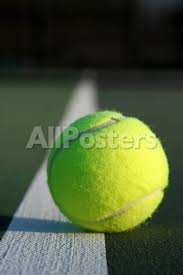tennis_ball: (46, 110, 170, 234)
